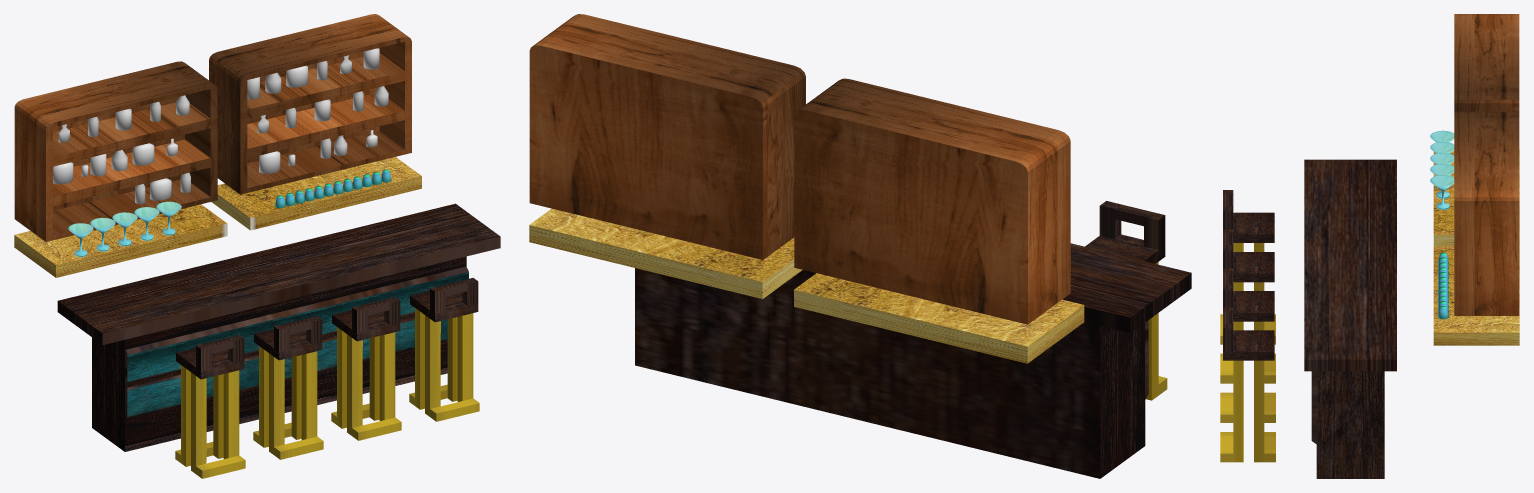
The model's file is bar.fbx.
3 views of the same model, side by side, from view 1: azimuth 30°, elevation 25°; view 2: azimuth 150°, elevation 25°; view 3: azimuth 270°, elevation 25° (orthographic). The views are drawn at different scales.
Parts seen in each view (by area): view 1: Cube.007, Cube.005, Cube.006, Cube.008, Cylinder.023, Cylinder.022; view 2: Cube.007, Cube.005, Cube.008, Cube.006; view 3: Cube.005, Cube.007, Cube.006, Cube.008, Cylinder.023, Cylinder.022.
Part boxes in pixels (x1,y1,x2,y2): Cube.007: (14,14,411,241); Cube.005: (57,203,500,451); Cube.006: (175,277,479,478); Cube.008: (14,157,421,277); Cylinder.023: (68,201,181,257); Cylinder.022: (275,169,391,208); Cube.007: (529,14,1070,324); Cube.005: (635,243,1191,478); Cube.008: (529,208,1084,363); Cube.006: (1085,201,1167,400); Cube.005: (1304,159,1396,478); Cube.007: (1454,14,1519,315); Cube.006: (1220,190,1275,462); Cube.008: (1433,149,1519,345); Cylinder.023: (1430,130,1454,209); Cylinder.022: (1437,252,1448,319).
Bounding box in the file's own units: 1398 × 946 × 884.
